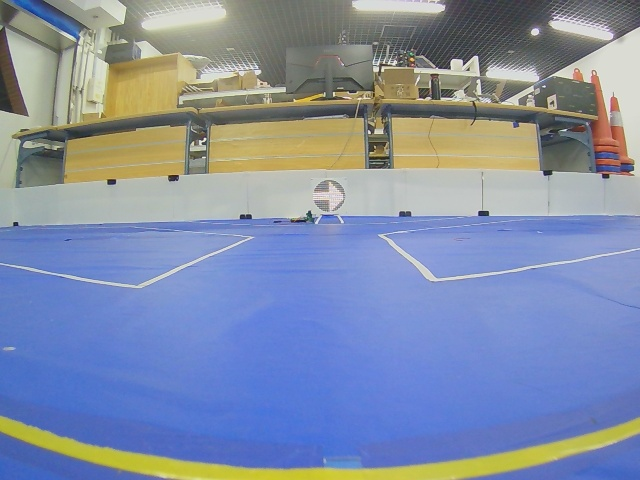right_yellow: (312, 180, 346, 213)
